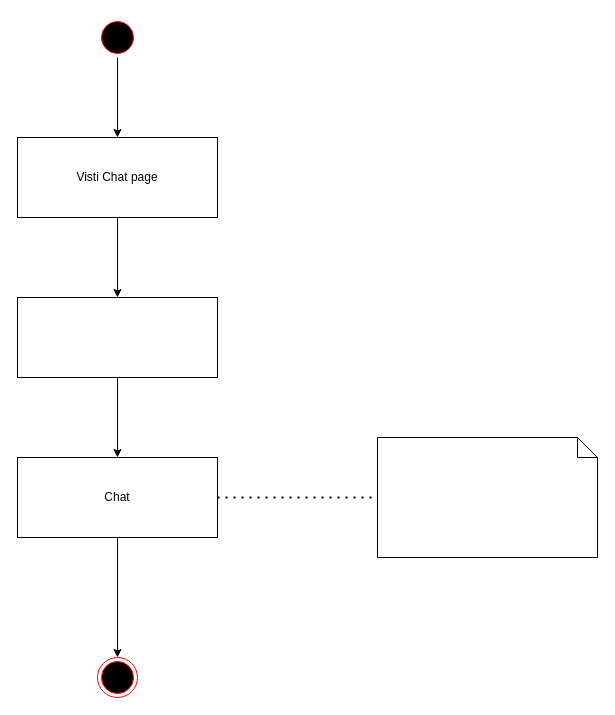
Image size: 615x715. Some labels were removed from this diagram. Here are the shapes that lost their labels. From the top down, the box of each, then its label:
(16, 296, 218, 378): Search or just select a student group
(376, 436, 598, 558): A message sent to a group will be seen by every member of the group
